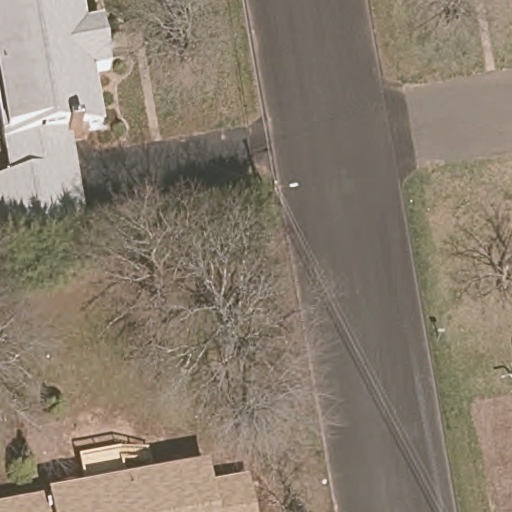DT: (267, 178, 299, 202)
